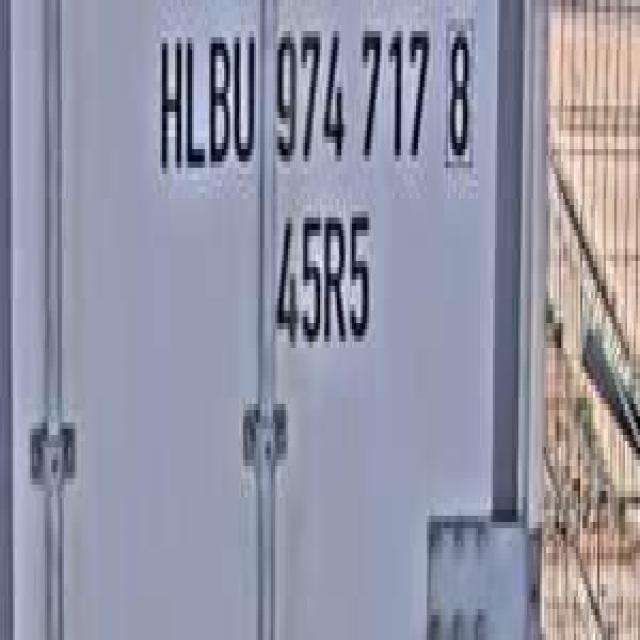dv: (439, 0, 478, 174)
owner: (154, 7, 258, 186)
serial: (268, 0, 433, 186)
size: (268, 192, 378, 360)
